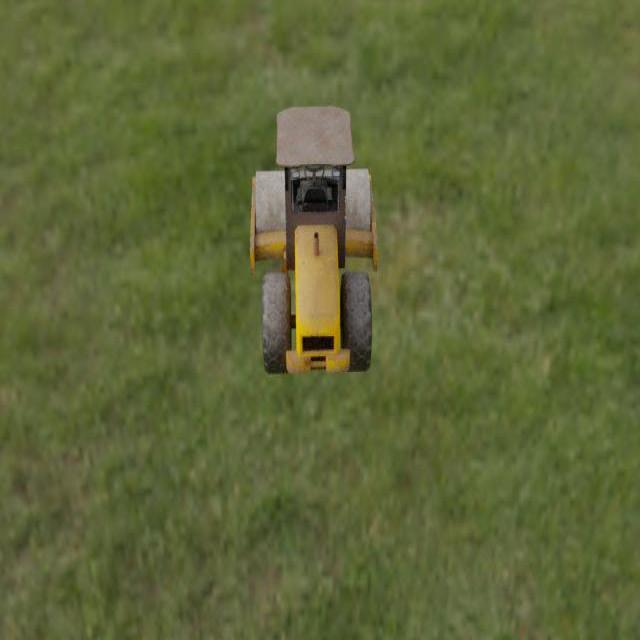Roller: (249, 105, 378, 375)
